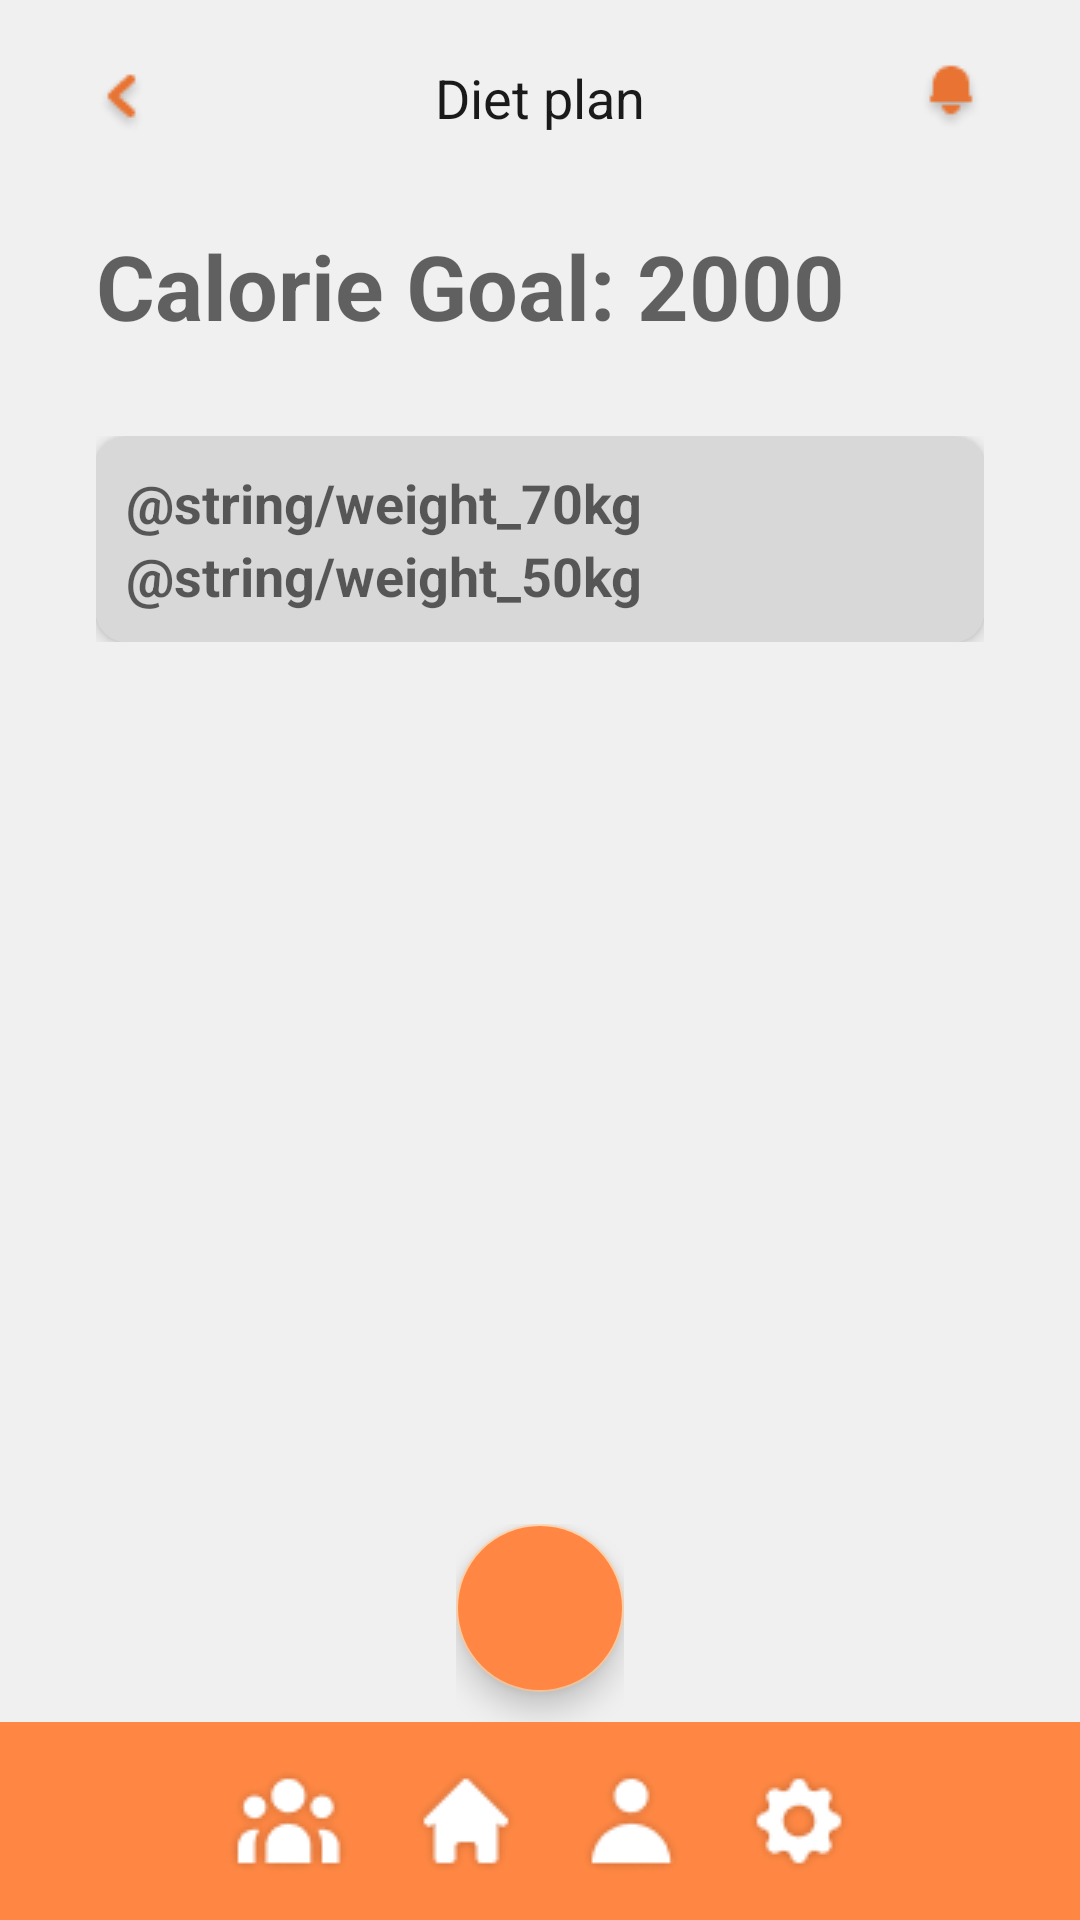

Locate icon controls on the screen. Image size 1080px×1920px, boxes as (x1,y1,x2,y2).
Back: (107,74,136,120)
community: (236,1778,341,1865)
home: (423,1778,509,1864)
Notify: (929,65,973,118)
profile: (591,1778,671,1865)
settings: (756,1778,842,1864)
